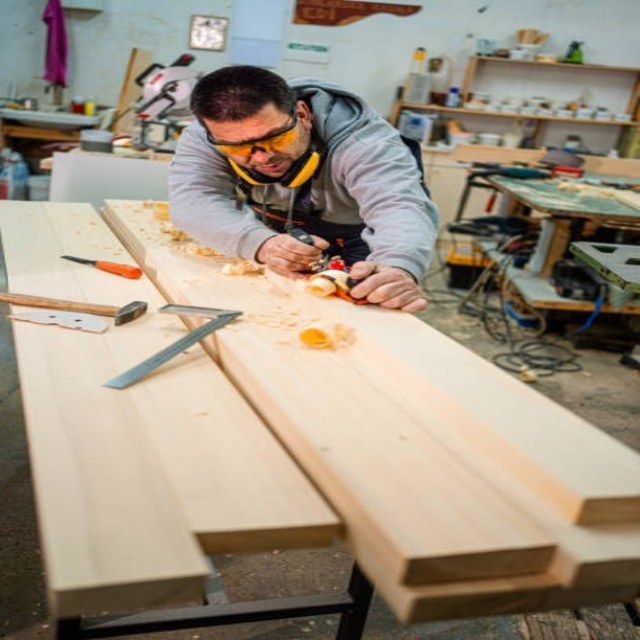Gafas: (207, 109, 307, 158)
Sin_guantes: (344, 261, 427, 311), (258, 231, 330, 277)
Sin_mascara: (240, 158, 292, 178)
